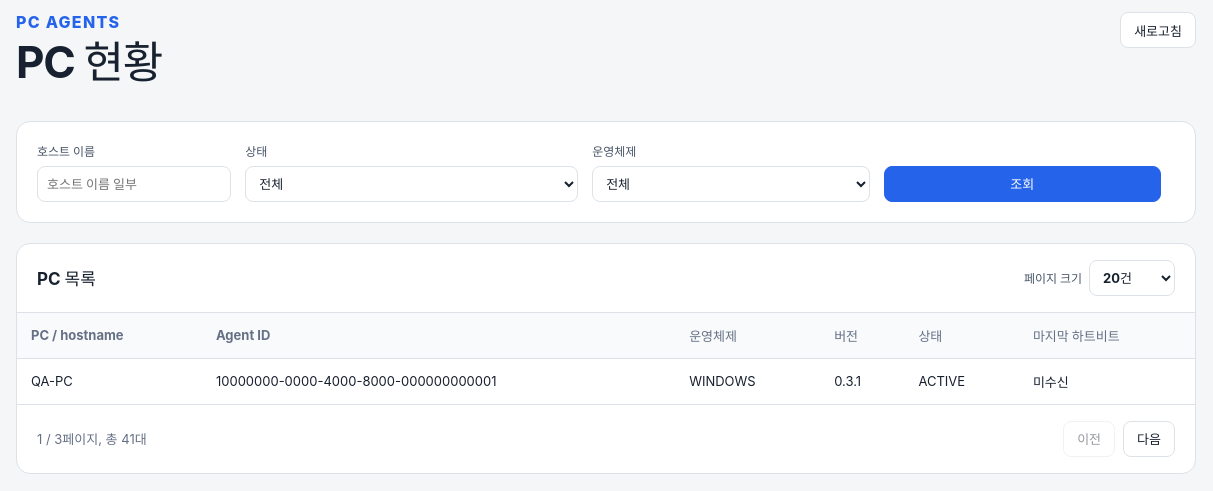
Test: PC 현황 › 마지막 페이지가 없어지면 존재하는 마지막 페이지를 다시 조회한다
The width and height of the screenshot is (1213, 491).
Click the button "다음" at (1149, 439), box [1123, 421, 1175, 457]
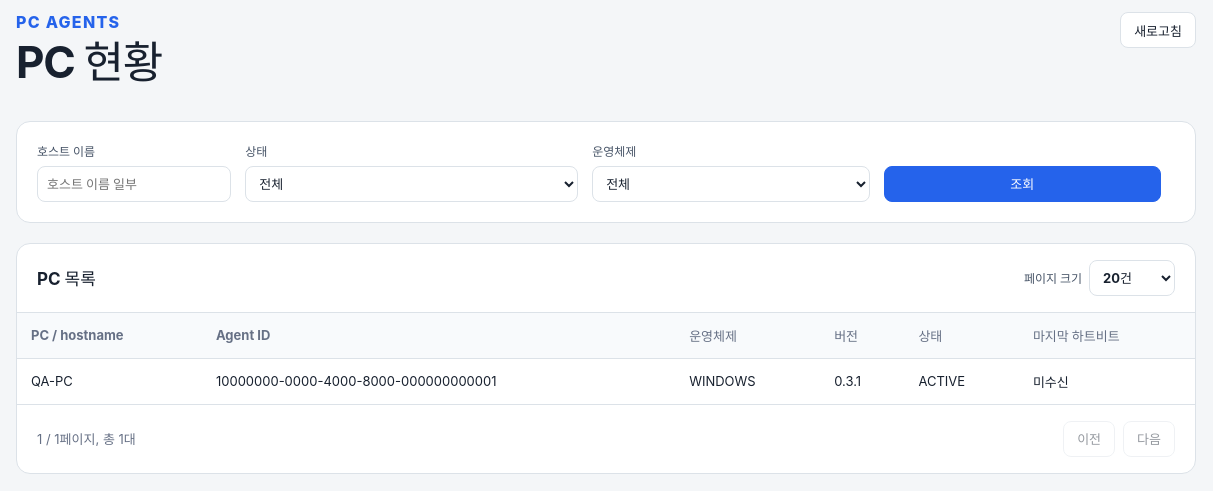
expect the element with class "events-pagination" shows "1 / 1페이지": met, box [17, 404, 1195, 473]
